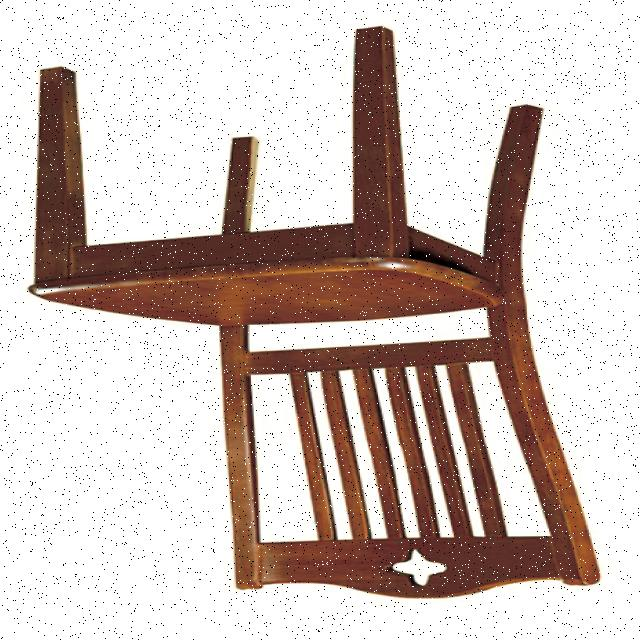bottle: (39, 22, 616, 598)
